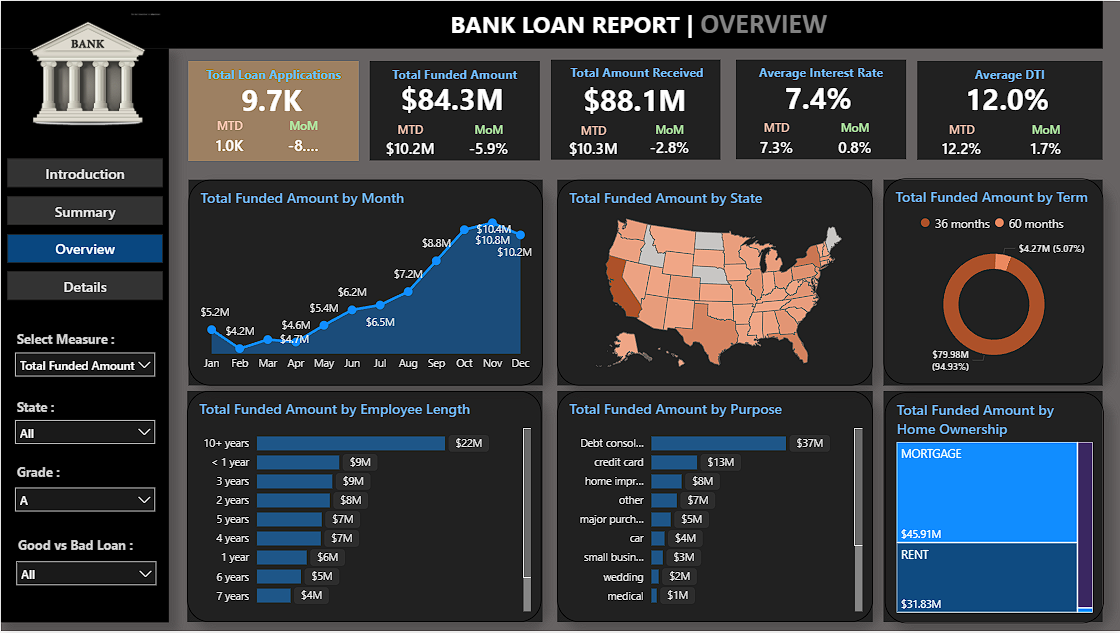

What the dashboard file says about the page in this screenshot:
{"tool":"powerbi","page":{"name":"Overview","canvas":[1280,720],"ordinal":2},"visuals":[{"type":"shape","box":[629.2,66.4,193.8,114.2],"z":0,"group":"g3"},{"type":"shape","box":[839.7,67.5,194.5,114],"z":0,"group":"g4"},{"type":"shape","box":[214.3,68.6,194.3,114.3],"z":0,"group":"g1"},{"type":"shape","box":[421.4,68.6,194.5,114],"z":0,"group":"g2"},{"type":"shape","box":[1047.5,69,211.7,112.9],"z":0,"group":"g5"},{"type":"shape","box":[214.3,204.3,405,235],"z":0},{"type":"shape","box":[0,0,1259.3,54.7],"z":1000},{"type":"card","fields":{"Values":["table_measures.avg_interest_rate"]},"box":[851.5,82.1,165.9,58.4],"z":1000,"group":"g4"},{"type":"card","fields":{"Values":["table_measures.total_loan_appl"]},"box":[247.2,83.2,124.3,61.3],"z":1000,"group":"g1"},{"type":"card","fields":{"Values":["table_measures.total_funded_amt"]},"box":[433.2,83.2,165.9,58.4],"z":1000,"group":"g2"},{"type":"card","fields":{"Values":["table_measures.avg_DTI"]},"box":[1060.3,83.4,180.6,57.8],"z":1000,"group":"g5"},{"type":"card","fields":{"Values":["table_measures.total_received_amt"]},"box":[643.2,85.3,163.1,55.8],"z":1000,"group":"g3"},{"type":"shape","box":[0,54.7,191.9,655.8],"z":2000},{"type":"textbox","box":[632.2,67,191,41.6],"z":2000,"group":"g3"},{"type":"textbox","box":[839.7,67.5,194.5,38.9],"z":2000,"group":"g4"},{"type":"textbox","box":[214.3,68.6,194.3,39],"z":2000,"group":"g1"},{"type":"textbox","box":[421.4,68.6,194.5,38.9],"z":2000,"group":"g2"},{"type":"textbox","box":[1047.5,69,211.7,38.5],"z":2000,"group":"g5"},{"type":"card","title":"MTD","fields":{"Values":["table_measures.MTD_loan_appl"]},"box":[235.7,132.7,51.4,50.2],"z":3000,"group":"g1"},{"type":"card","title":"MTD","fields":{"Values":["table_measures.MTD_interest_rate"]},"box":[851.5,136.3,70.1,48.6],"z":3000,"group":"g4"},{"type":"card","title":"MTD","fields":{"Values":["table_measures.MTD_received_amt"]},"box":[643.2,137.1,68.9,46.5],"z":3000,"group":"g3"},{"type":"card","title":"MTD","fields":{"Values":["table_measures.MTD_avg_DTI"]},"box":[1060.3,137.1,76.3,48.2],"z":3000,"group":"g5"},{"type":"card","title":"MTD","fields":{"Values":["table_measures.MTD_funded_amt"]},"box":[433.2,137.4,70.1,48.6],"z":3000,"group":"g2"},{"type":"textbox","box":[12.4,448.7,119.7,38.5],"z":3000},{"type":"textbox","box":[509.2,1.4,447.3,49.5],"z":4000},{"type":"card","title":"MoM","fields":{"Values":["table_measures.MOM_loan_appl"]},"box":[320,132.7,51.4,50.2],"z":4000,"group":"g1"},{"type":"card","title":"MoM","fields":{"Values":["table_measures.MOM_interest_rate"]},"box":[946.6,136.1,57.8,49.7],"z":4000,"group":"g4"},{"type":"card","title":"MoM","fields":{"Values":["table_measures.MOM_received_amt"]},"box":[736.7,136.9,56.8,47.5],"z":4000,"group":"g3"},{"type":"card","title":"MoM","fields":{"Values":["table_measures.MOM_avg_DTI"]},"box":[1163.9,136.9,62.9,49.2],"z":4000,"group":"g5"},{"type":"card","title":"MoM","fields":{"Values":["table_measures.MOM_funded_amt"]},"box":[528.3,137.2,57.8,49.7],"z":4000,"group":"g2"},{"type":"group","id":"g1","title":"Group 1","box":[214.3,68.6,194.3,114.3],"z":5000},{"type":"group","id":"g2","title":"Group 1","box":[421.4,68.6,194.3,118],"z":6000},{"type":"group","id":"g3","title":"Group 1","box":[629.2,66.4,194,118],"z":7000},{"type":"group","id":"g4","title":"Group 1","box":[839.7,67.5,194.5,118.2],"z":8000},{"type":"group","id":"g5","title":"Group 1","box":[1047.5,69,211.5,116.9],"z":9000},{"type":"shape","box":[635.9,203.7,360,235],"z":10000},{"type":"slicer","fields":{"Values":["financial_loan.address_state"]},"box":[5.5,468,180.3,50.9],"z":11000},{"type":"slicer","fields":{"Values":["financial_loan.grade"]},"box":[5.5,546.4,180.3,50.9],"z":12000},{"type":"textbox","box":[12.4,523,119.7,38.5],"z":13000},{"type":"slicer","fields":{"Values":["financial_loan.Good vs Band Loan"]},"box":[6.9,630.4,180.3,50.9],"z":14000},{"type":"textbox","box":[13.8,607,163.8,38.5],"z":15000},{"type":"areaChart","fields":{"Y":["table_measures.total_loan_appl"],"Category":["Date Table.Month"]},"box":[214.7,203.7,404.6,235.4],"z":16000},{"type":"slicer","fields":{"Values":["Select Measure.Select Measure"]},"box":[5.5,390.9,180.3,55.1],"z":17000},{"type":"shape","box":[213.3,445.9,406,264.3],"z":18000},{"type":"shapeMap","fields":{"Value":["table_measures.total_loan_appl"],"Category":["financial_loan.address_state"]},"box":[635.9,203.7,360.6,235.4],"z":19000},{"type":"shape","box":[1008.9,203.7,250.5,235.4],"z":20000},{"type":"donutChart","fields":{"Y":["table_measures.total_loan_appl"],"Category":["financial_loan.term"]},"box":[1008.1,203.5,251.2,234.9],"z":21000},{"type":"barChart","fields":{"Y":["table_measures.total_loan_appl"],"Category":["financial_loan.emp_length"]},"box":[213.3,445.9,404.6,264.3],"z":22000},{"type":"textbox","box":[12.4,371.6,139,38.5],"z":23000},{"type":"shape","box":[635.9,445.9,360.6,264.3],"z":24000},{"type":"barChart","fields":{"Y":["table_measures.total_loan_appl"],"Category":["financial_loan.purpose"]},"box":[635.9,445.9,360.6,264.3],"z":25000},{"type":"shape","box":[1008.9,445.9,250.5,264.3],"z":26000},{"type":"treemap","fields":{"Values":["table_measures.total_loan_appl"],"Group":["financial_loan.home_ownership"]},"box":[1009.3,446.5,250,264],"z":27000},{"type":"pageNavigator","box":[6.9,180.3,178.9,163.8],"z":28000},{"type":"image","box":[0,1.4,187.2,156.9],"z":29000}]}

Visuals, with their boxes in screenshot pixels (x1, y1, x2, y2), scaled from the page's 1280x720 canvas onto the 1120x633 screenshot:
shape: 551/58/720/159
shape: 735/59/905/160
shape: 188/60/358/161
shape: 369/60/539/161
shape: 917/61/1102/160
shape: 188/180/542/386
shape: 0/0/1102/48
card - table_measures.avg_interest_rate: 745/72/890/124
card - table_measures.total_loan_appl: 216/73/325/127
card - table_measures.total_funded_amt: 379/73/524/124
card - table_measures.avg_DTI: 928/73/1086/124
card - table_measures.total_received_amt: 563/75/706/124
shape: 0/48/168/625
textbox: 553/59/720/95
textbox: 735/59/905/94
textbox: 188/60/358/95
textbox: 369/60/539/95
textbox: 917/61/1102/95
"MTD" card: 206/117/251/161
"MTD" card: 745/120/806/163
"MTD" card: 563/121/623/161
"MTD" card: 928/121/995/163
"MTD" card: 379/121/440/164
textbox: 11/394/116/428
textbox: 446/1/837/45
"MoM" card: 280/117/325/161
"MoM" card: 828/120/879/163
"MoM" card: 645/120/694/162
"MoM" card: 1018/120/1073/164
"MoM" card: 462/121/513/164
"Group 1" group: 188/60/358/161
"Group 1" group: 369/60/539/164
"Group 1" group: 551/58/720/162
"Group 1" group: 735/59/905/163
"Group 1" group: 917/61/1102/163
shape: 556/179/871/386
slicer - financial_loan.address_state: 5/411/163/456
slicer - financial_loan.grade: 5/480/163/525
textbox: 11/460/116/494
slicer - financial_loan.Good vs Band Loan: 6/554/164/599
textbox: 12/534/155/568
areaChart - table_measures.total_loan_appl x Date Table.Month: 188/179/542/386
slicer - Select Measure.Select Measure: 5/344/163/392
shape: 187/392/542/624
shapeMap - table_measures.total_loan_appl x financial_loan.address_state: 556/179/872/386
shape: 883/179/1102/386
donutChart - table_measures.total_loan_appl x financial_loan.term: 882/179/1102/385
barChart - table_measures.total_loan_appl x financial_loan.emp_length: 187/392/541/624
textbox: 11/327/132/361
shape: 556/392/872/624
barChart - table_measures.total_loan_appl x financial_loan.purpose: 556/392/872/624
shape: 883/392/1102/624
treemap - table_measures.total_loan_appl x financial_loan.home_ownership: 883/393/1102/625
pageNavigator: 6/159/163/303
image: 0/1/164/139
